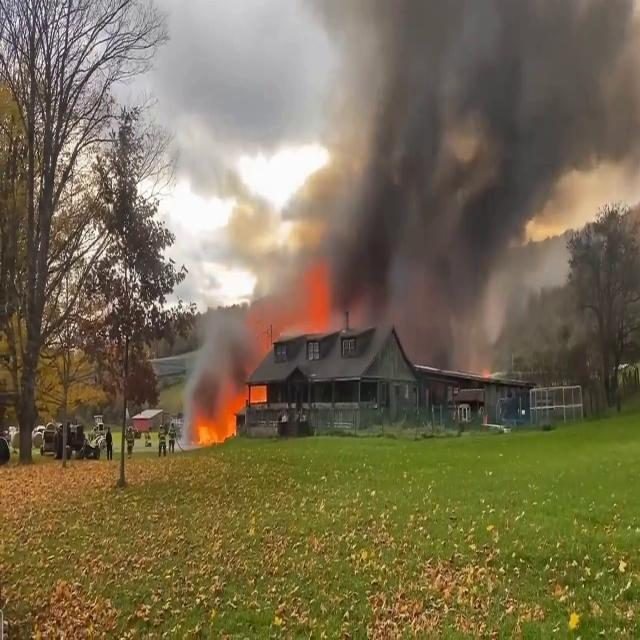Fire: (184, 375, 258, 453)
Smoke: (289, 1, 639, 332)
